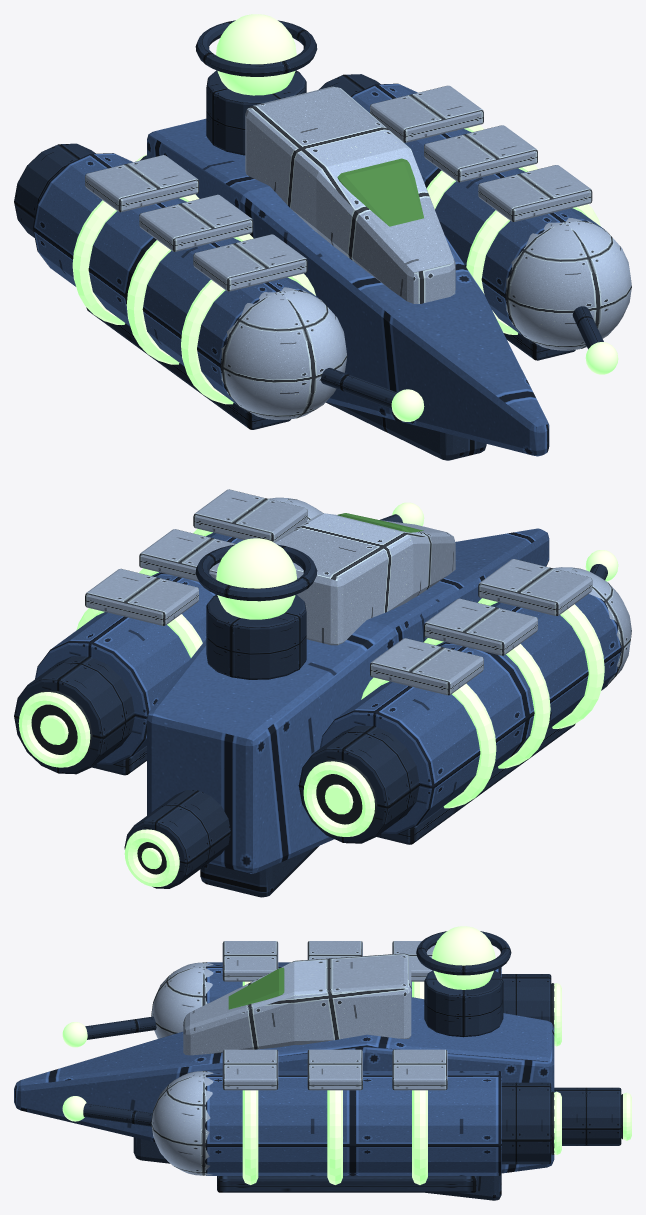
The model's file is regenerator.glb.
3 renders of one model, top to bottom at view 1: azimuth 30°, elevation 25°; view 2: azimuth 150°, elevation 25°; view 3: azimuth 270°, elevation 25°, orthographic. The views are drawn at different scales.
Visible parts, largest first — view 1: Surface_Ceramic_Armor, Surface_Titanium_Panels, Surface_Brushed_Steel, Surface_regenerator_Reactor, Surface_regenerator_Glazed_Optics; view 2: Surface_Titanium_Panels, Surface_Ceramic_Armor, Surface_Brushed_Steel, Surface_regenerator_Reactor, Surface_Recess_Carbon; view 3: Surface_Titanium_Panels, Surface_Ceramic_Armor, Surface_Brushed_Steel, Surface_regenerator_Reactor, Surface_regenerator_Glazed_Optics, Surface_Recess_Carbon.
Part boxes in pixels (<box>): Surface_Ceramic_Armor: <box>85,85,631,419</box>; Surface_Titanium_Panels: <box>33,83,604,456</box>; Surface_Brushed_Steel: <box>14,20,603,460</box>; Surface_regenerator_Reactor: <box>72,14,618,421</box>; Surface_regenerator_Glazed_Optics: <box>337,158,423,226</box>; Surface_Titanium_Panels: <box>35,528,621,873</box>; Surface_Ceramic_Armor: <box>85,489,631,695</box>; Surface_Brushed_Steel: <box>14,514,607,897</box>; Surface_regenerator_Reactor: <box>18,502,618,886</box>; Surface_Recess_Carbon: <box>31,690,377,874</box>; Surface_Titanium_Panels: <box>14,962,554,1176</box>; Surface_Ceramic_Armor: <box>151,941,447,1175</box>; Surface_Brushed_Steel: <box>83,931,621,1200</box>; Surface_regenerator_Reactor: <box>62,926,631,1184</box>; Surface_regenerator_Glazed_Optics: <box>228,967,284,1009</box>; Surface_Recess_Carbon: <box>551,983,622,1154</box>.
Size of the model in its own units: 1.3 by 0.9872 by 2.12.
Materials: 6 (3 with a texture image).
